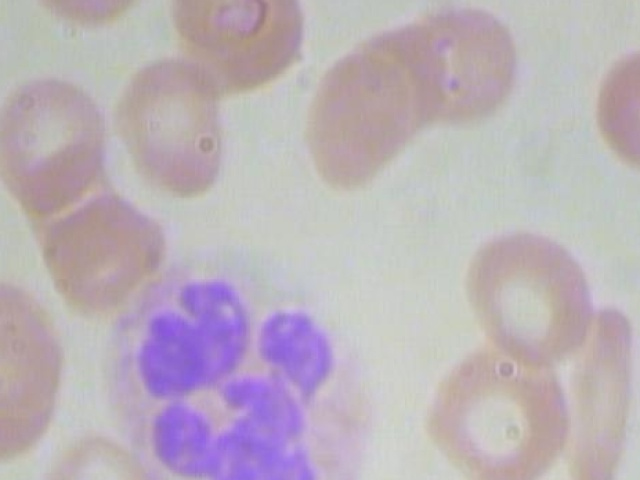RBC: (405, 342, 574, 480), (463, 218, 603, 362), (410, 0, 542, 137), (110, 51, 224, 204), (308, 47, 414, 197), (0, 67, 110, 206), (565, 289, 635, 480), (0, 268, 64, 405), (0, 336, 60, 469), (585, 38, 640, 169), (32, 431, 164, 480)
WBC: (92, 259, 393, 480)
